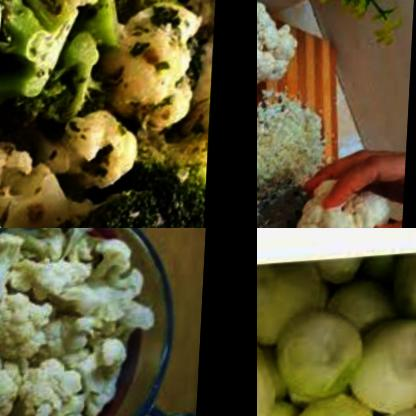broccoli: (84, 143, 212, 228), (0, 0, 78, 67)
cayliflower: (0, 228, 160, 416), (0, 100, 160, 228), (102, 0, 221, 149), (257, 86, 341, 205), (287, 173, 405, 228), (257, 0, 306, 97)
onion: (257, 236, 416, 416)
